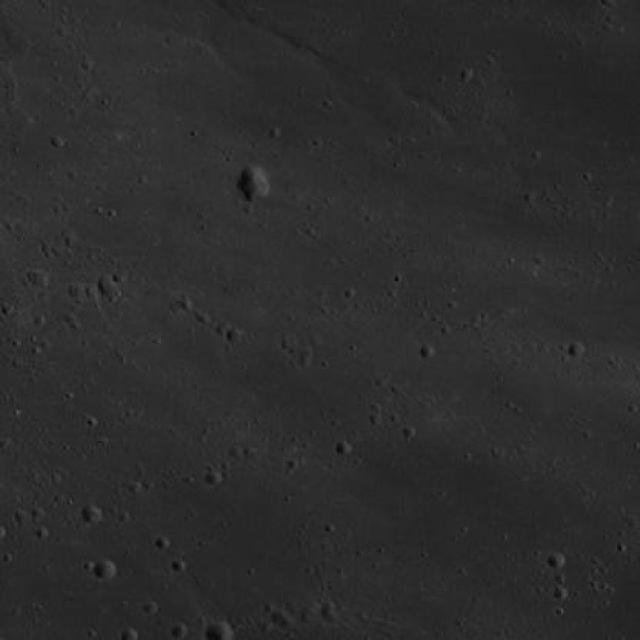crater: (232, 164, 271, 198), (96, 560, 118, 580), (83, 506, 103, 525), (298, 600, 318, 618), (98, 278, 116, 296), (548, 554, 566, 571), (269, 608, 286, 624), (337, 441, 354, 456)
